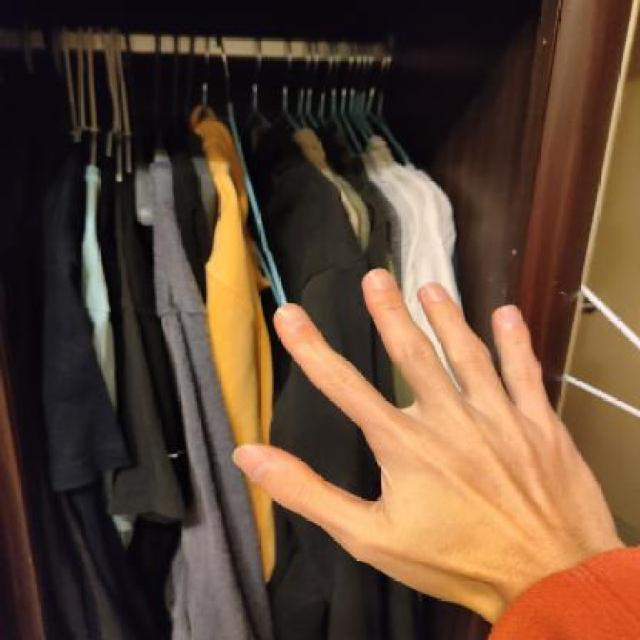bare_hand: (224, 260, 638, 614)
